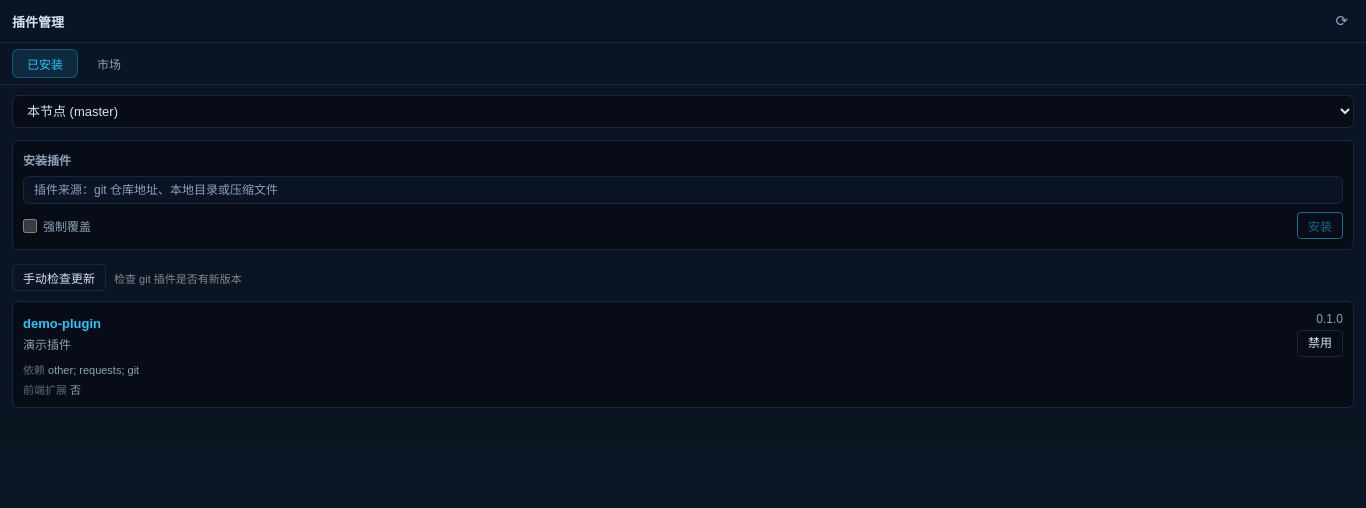
PluginSidebar › 无能力的插件右键菜单仍可用，仅提供卸载项
// 无 capabilities 的插件右键仍能弹出菜单
Right-click the element showing "demo-plugin 演示插件 0.1.0 禁用 依赖 other; requests; git 前端扩展 否" at (683, 354), box [12,301,1354,408]
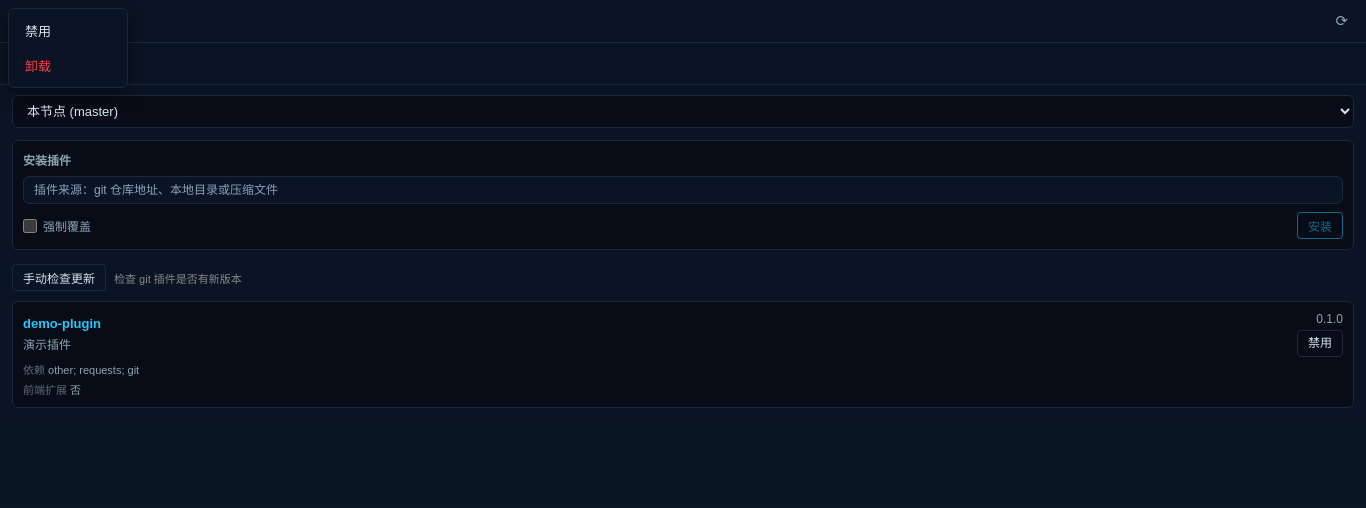
Expected: the element showing "禁用 卸载" is shown, [8,8,128,88]
Expected: the button "卸载" is shown, [13,48,123,83]
